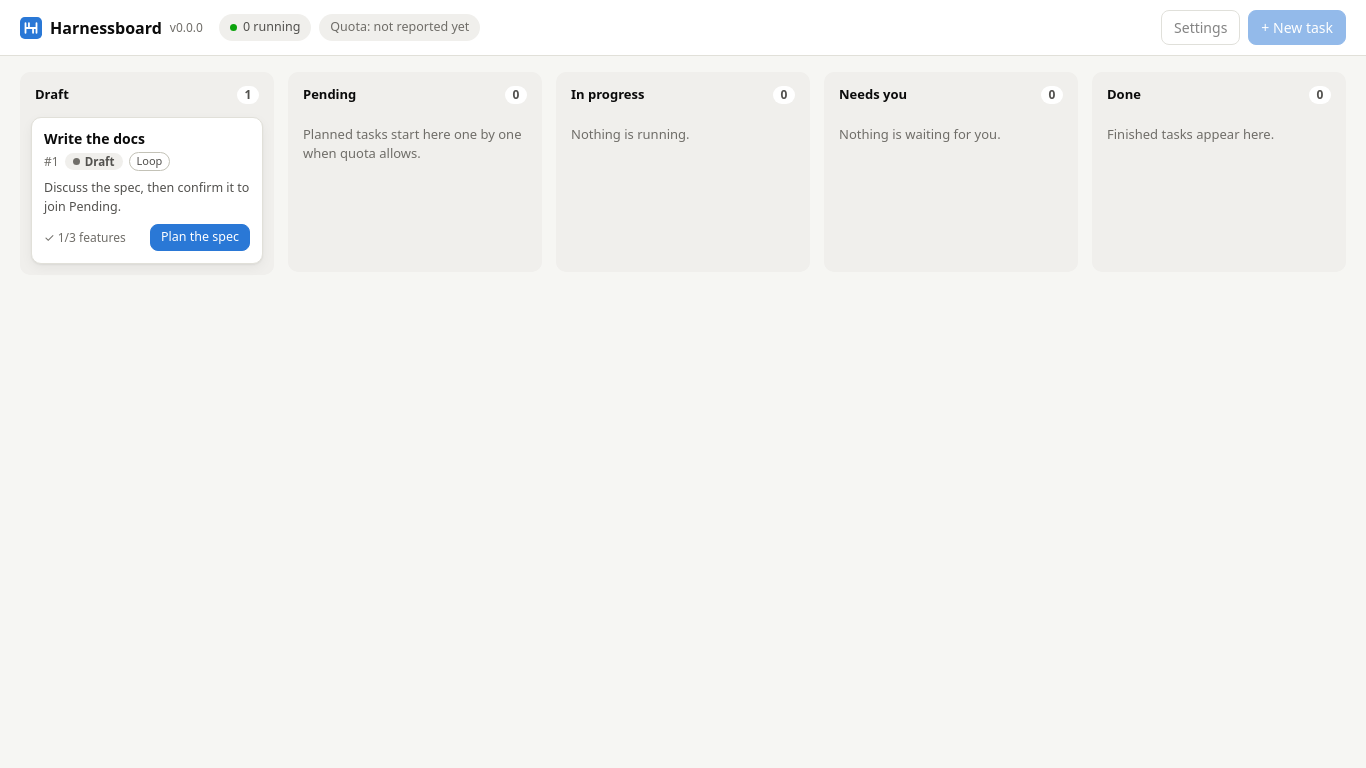
Test case: planning a draft again from the desktop app › asks what should change in the app instead of a browser prompt for a loop draft
This screenshot has width=1366, height=768.
Click the button "Plan the spec".
click(200, 238)  # box [150,224,250,251]
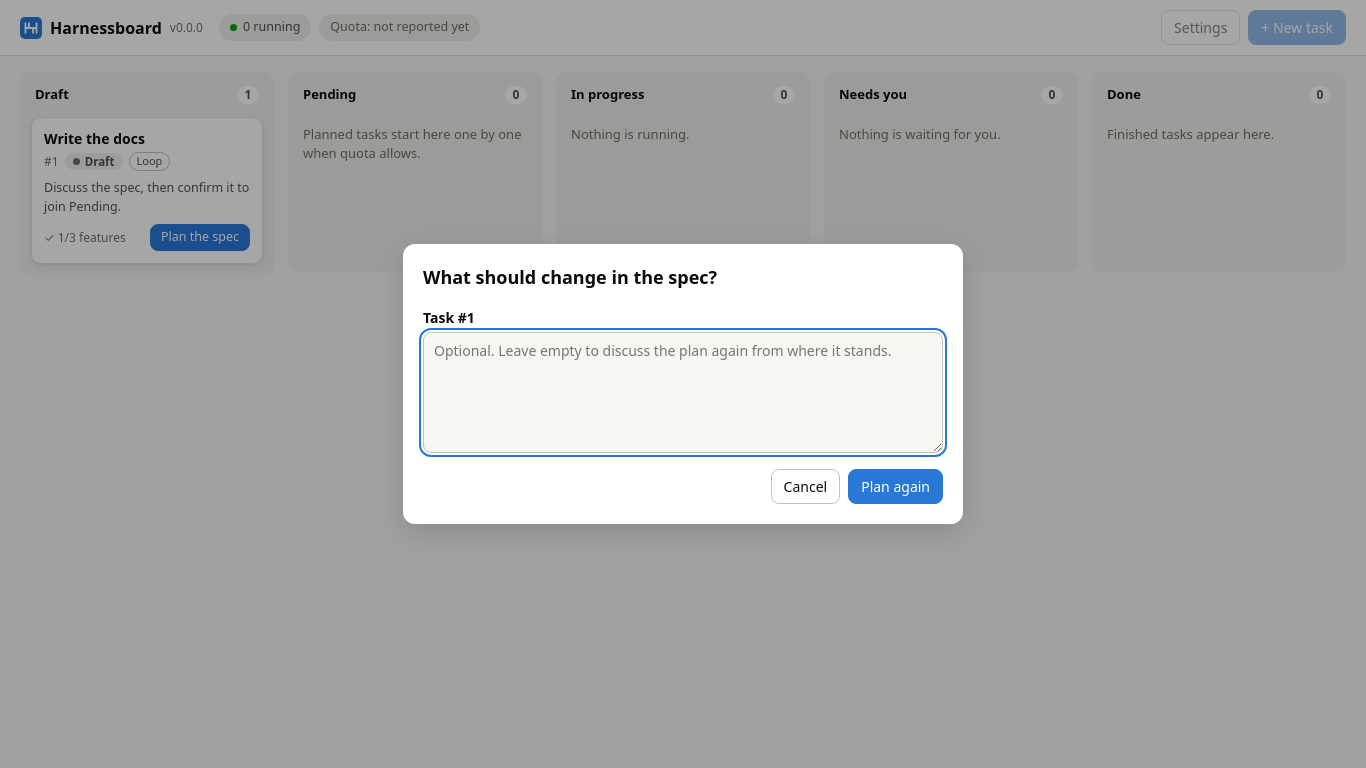
Check: the heading "What should change in the spec?" is shown, box [423,265,717,289]
